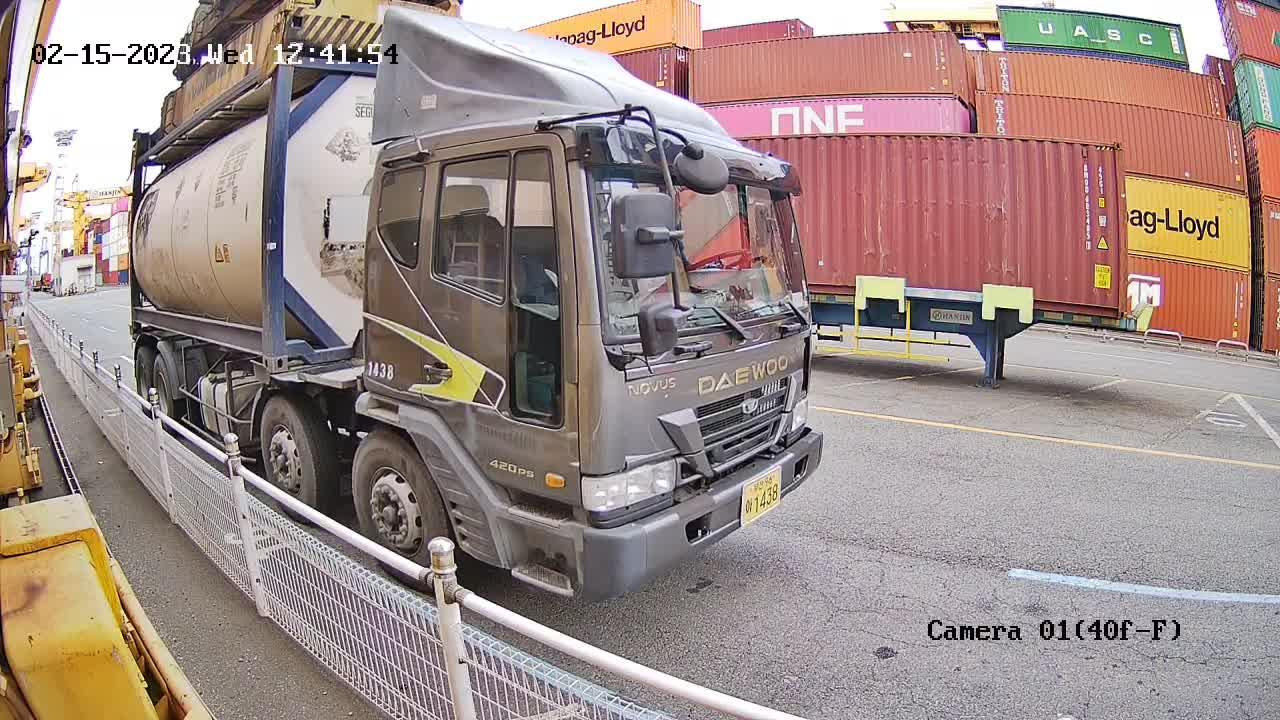Hole_L: (271, 326, 314, 375)
Hole_R: (241, 319, 272, 373)
Tire: (350, 430, 448, 566), (257, 399, 318, 508)
